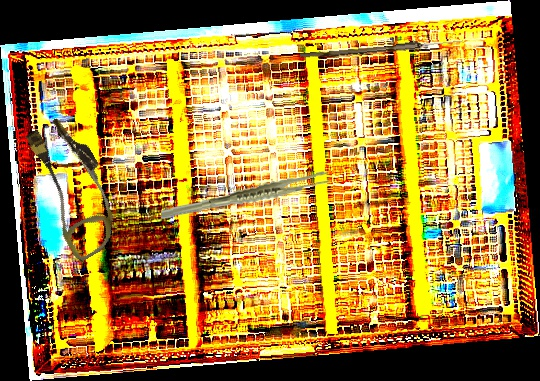Cannula: (10, 111, 137, 264)
Surgical Spoon: (300, 36, 463, 62)
Tissue Forceps: (159, 171, 330, 220)
